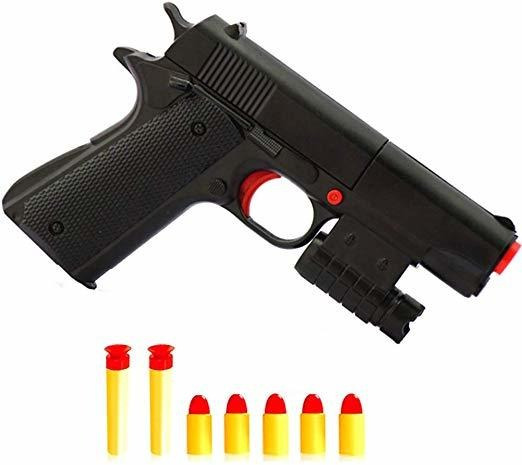Arma Falsa: (10, 2, 518, 347)
